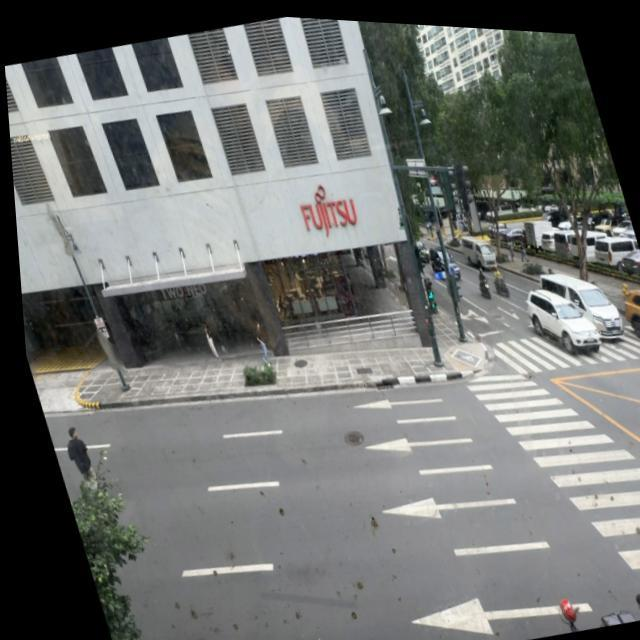jaywalking: (60, 426, 97, 487)
